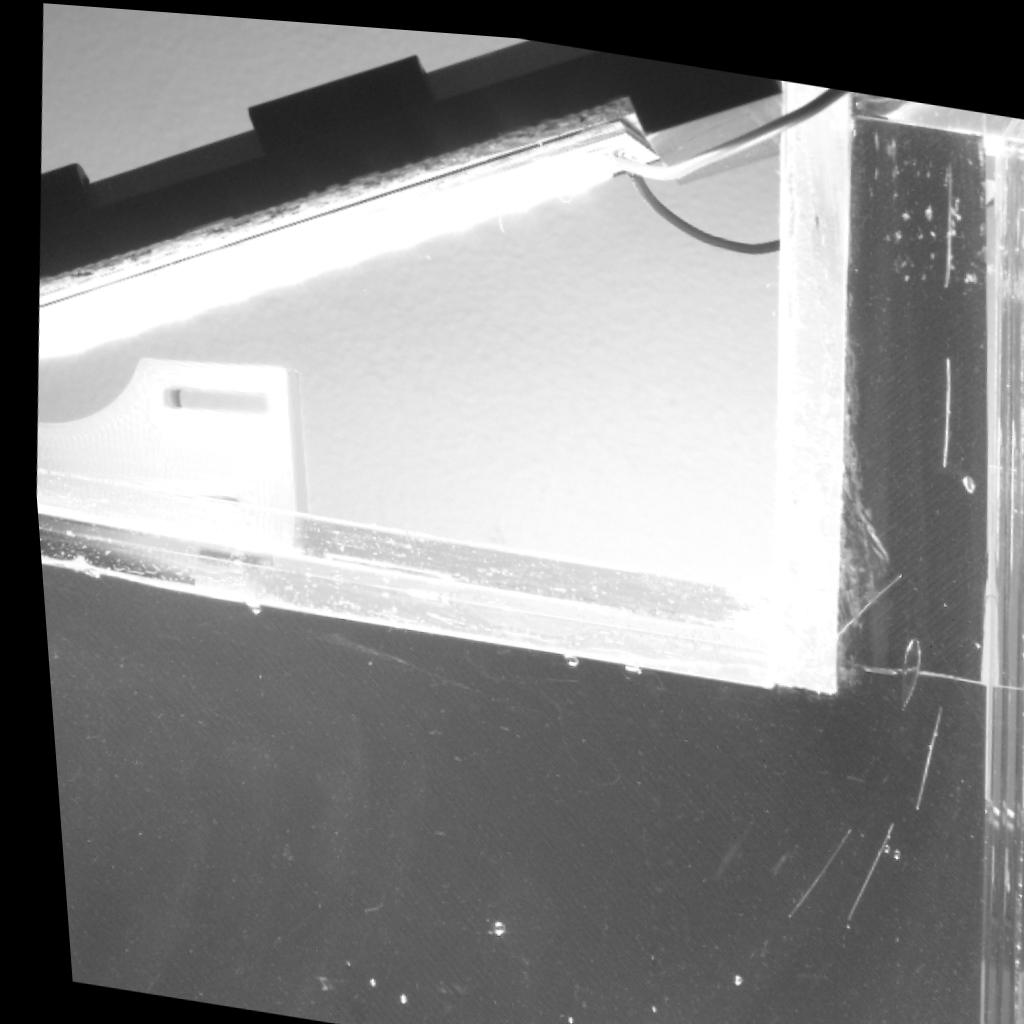Fiber: (770, 811, 841, 908), (828, 806, 886, 909), (826, 555, 895, 626), (900, 689, 937, 796), (938, 142, 958, 272), (934, 339, 947, 453)
